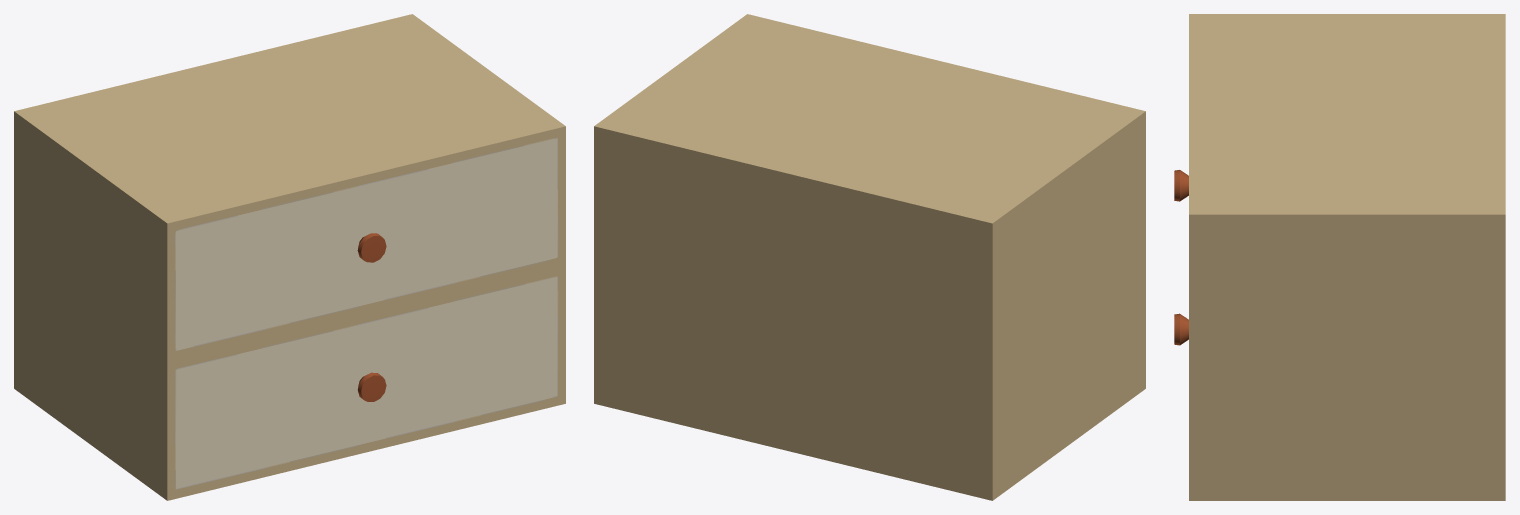
File: drawer_wood.glb
3 views of the same model, side by side, from view 1: azimuth 30°, elevation 25°; view 2: azimuth 150°, elevation 25°; view 3: azimuth 270°, elevation 25° (orthographic). The views are drawn at different scales.
Parts seen in each view (by area): view 1: Box003; view 2: Box003; view 3: Box003.
Boxes of the visible parts, x1,y1,x2,y2 form: Box003: (14,14,565,500); Box003: (594,14,1145,500); Box003: (1174,14,1505,500).
Size of the model in its own units: 0.12 by 0.0798 by 0.0838.
Materials: 1 (1 with a texture image).
